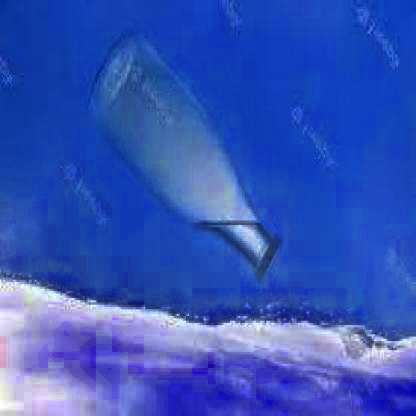gbottle: (90, 32, 284, 284)
